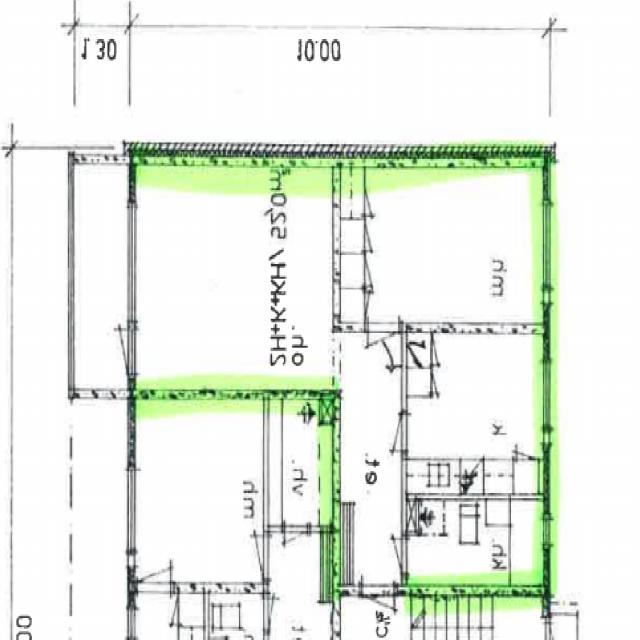door: (95, 328, 137, 371), (363, 582, 394, 638), (368, 323, 398, 374), (375, 413, 407, 449), (378, 537, 408, 570)
